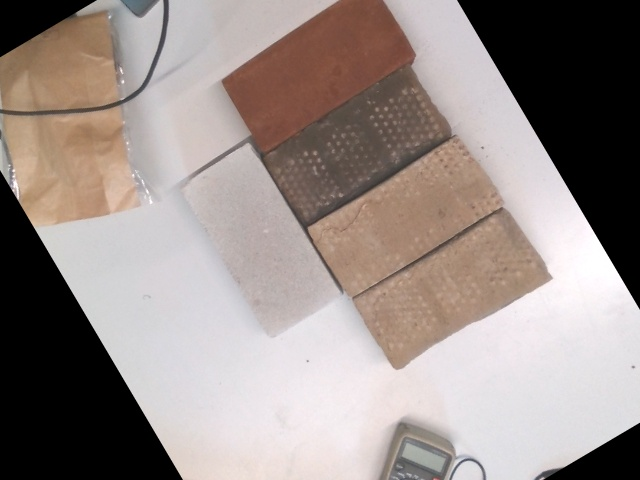brick: (178, 145, 342, 337), (309, 135, 500, 299), (357, 208, 550, 370), (262, 63, 449, 224)
